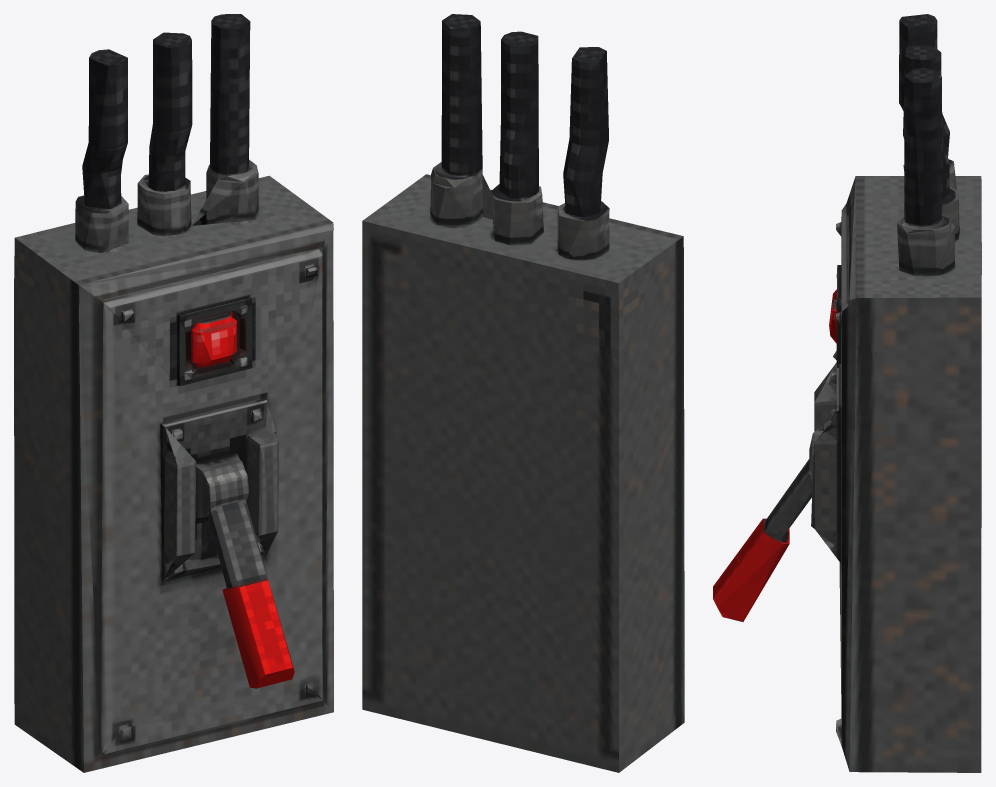
Rendered from Meshy_AI_model.glb.
3 renders of one model, left to right at view 1: azimuth 30°, elevation 25°; view 2: azimuth 150°, elevation 25°; view 3: azimuth 270°, elevation 25°, orthographic. The views are drawn at different scales.
Parts seen in each view (by area): view 1: output_unwrapped; view 2: output_unwrapped; view 3: output_unwrapped.
Part boxes in pixels (x1,y1,x2,y2): output_unwrapped: (14, 14, 333, 772); output_unwrapped: (362, 14, 684, 772); output_unwrapped: (713, 14, 981, 772).
Bounding box in the file's own units: 0.7481 × 1.9 × 0.6967.
1 material, 1 textured.
